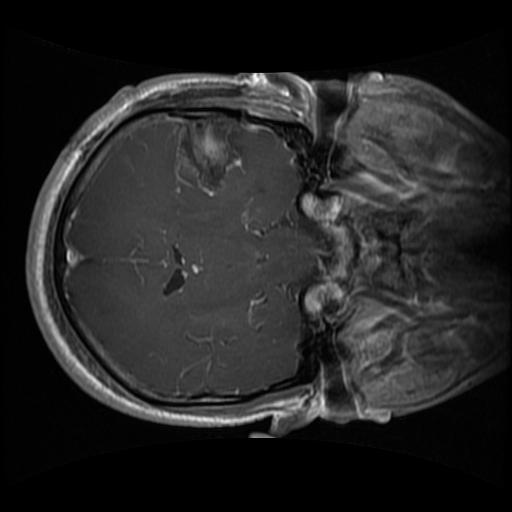glioma: (171, 114, 244, 200)
